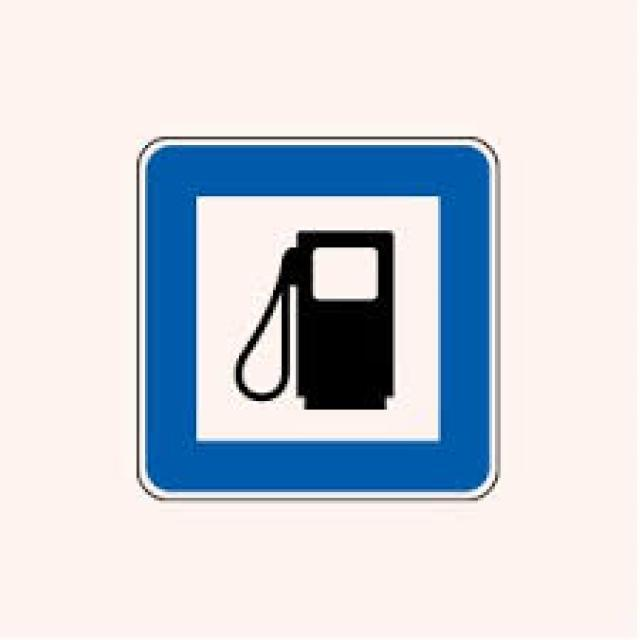petrol pump ahead: (138, 134, 497, 500)
